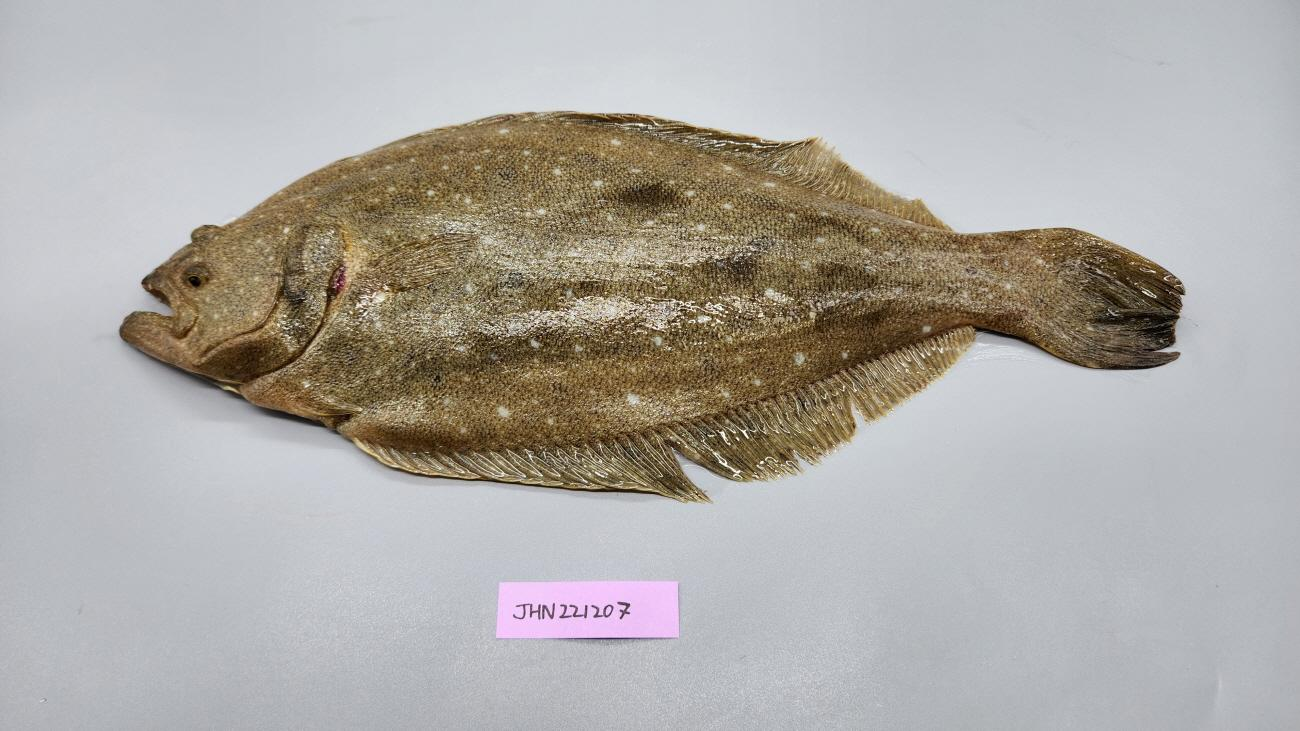POOUN: (116, 109, 1188, 506)
